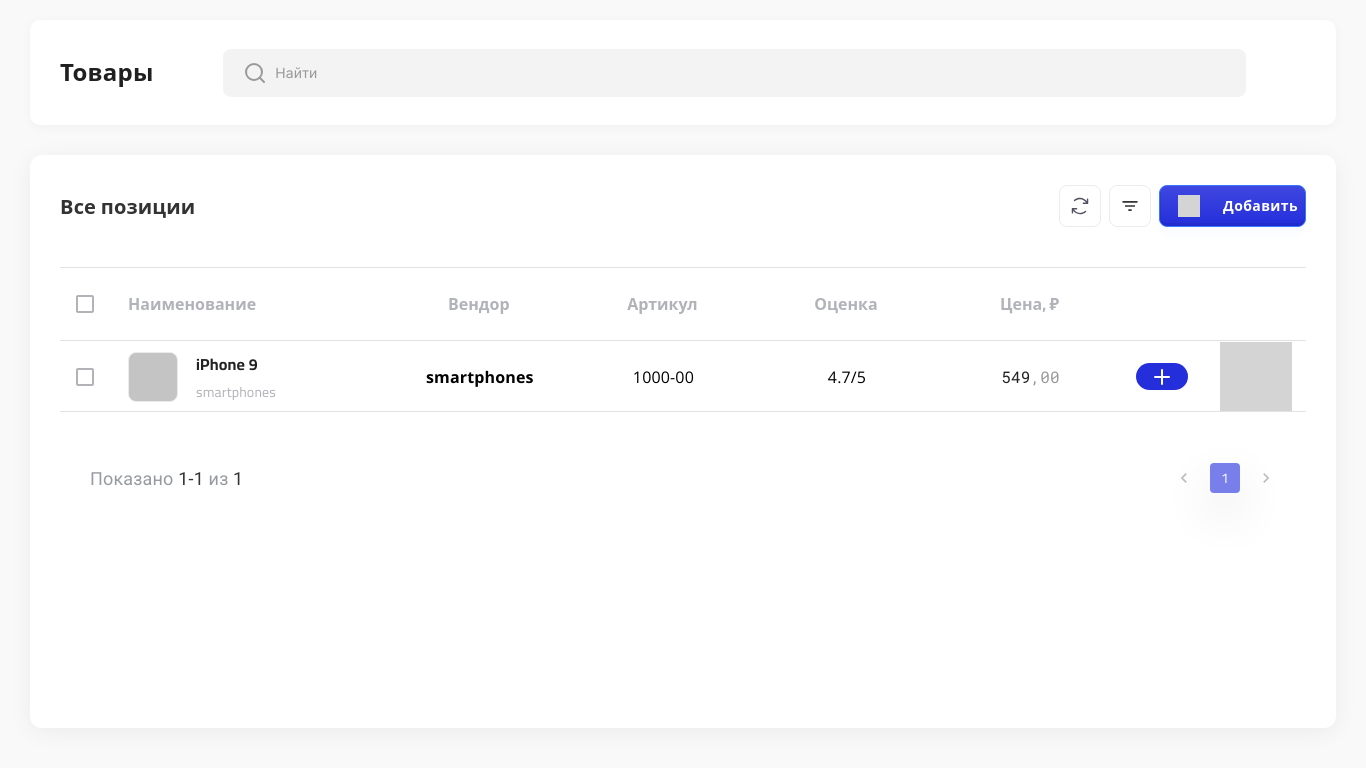
ProductsCreateProductForm › shows validation errors on empty submit
Expected: the text "Все позиции" is shown, top-left (60, 188), bottom-right (196, 224)
Click the button "Добавить".
click(1232, 206)  # box top-left (1159, 185), bottom-right (1306, 227)
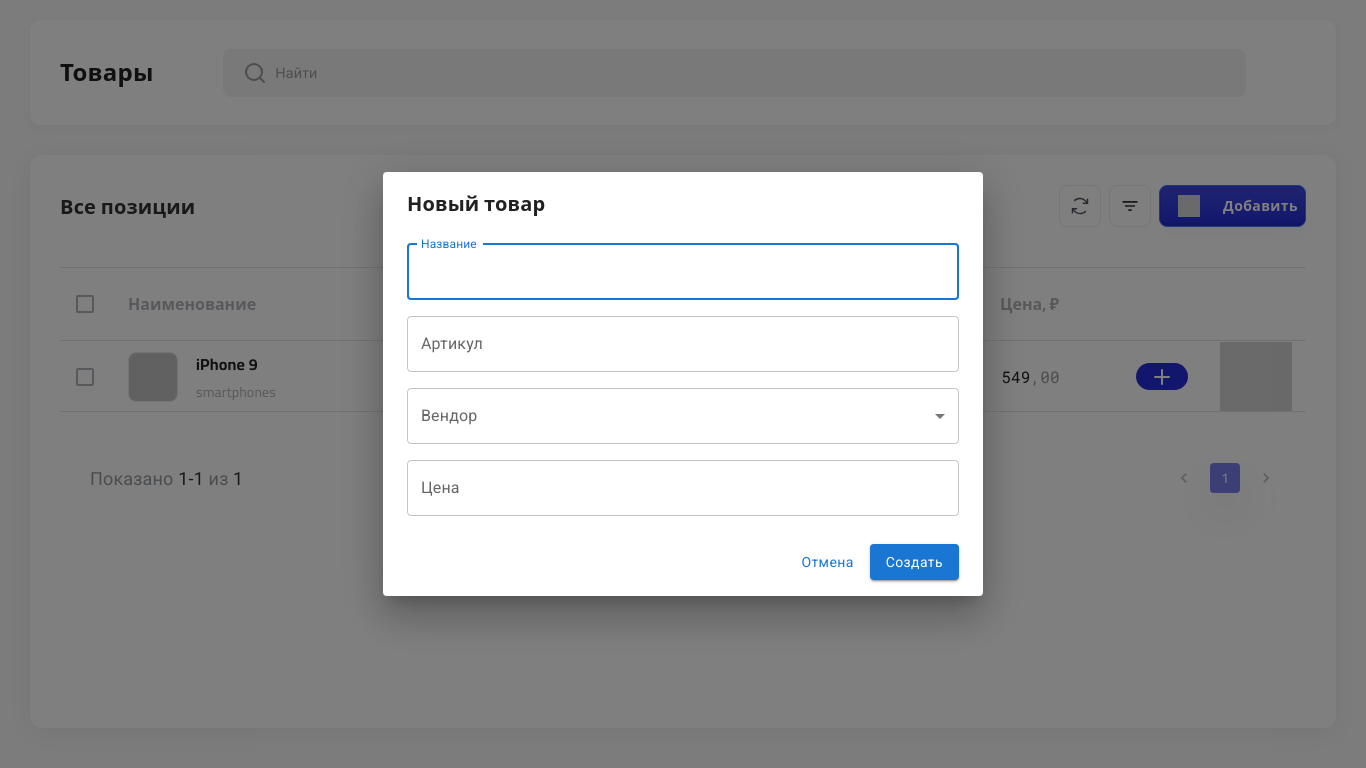
Result: the heading "Новый товар" is shown at top-left (407, 185), bottom-right (545, 222)
Click the button "Создать".
click(914, 562)  # box top-left (870, 544), bottom-right (959, 580)
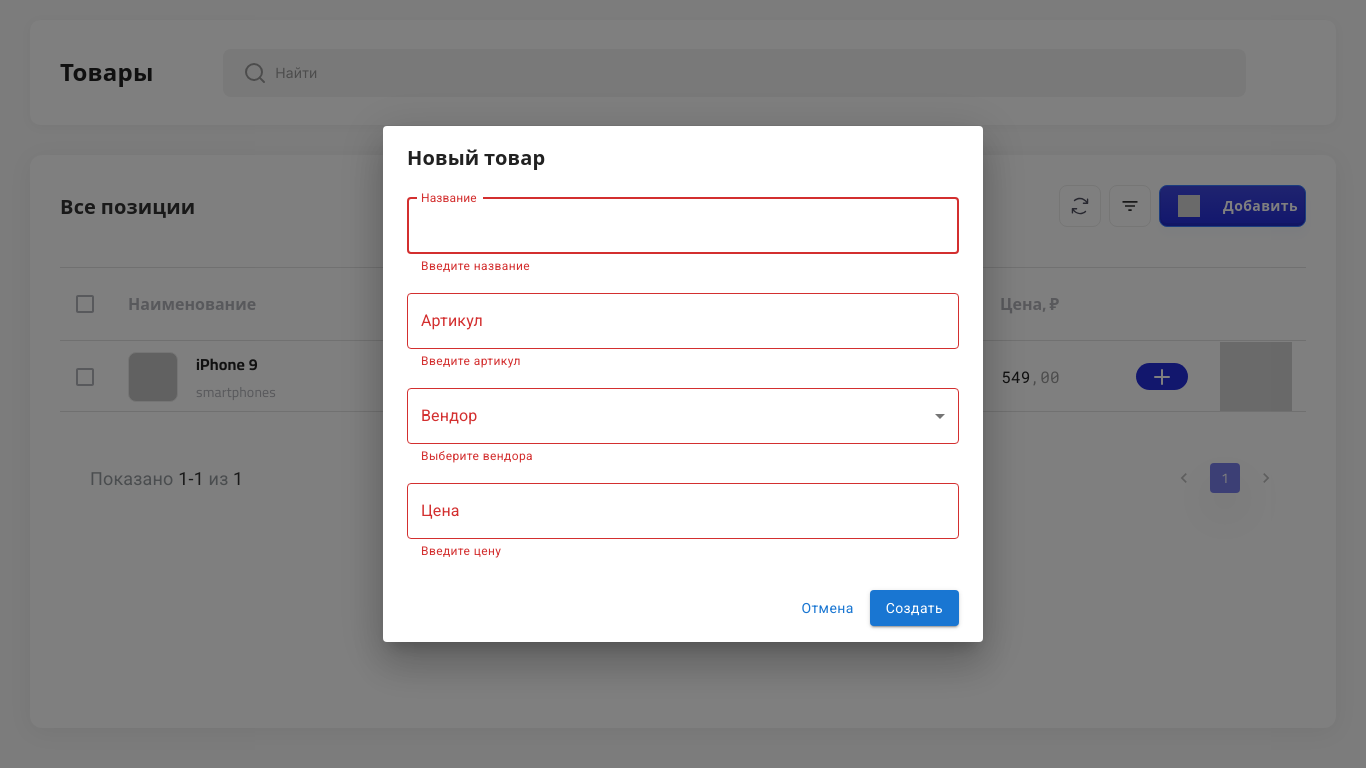
Result: the text "Введите название" is shown at top-left (421, 259), bottom-right (530, 273)
Result: the text "Введите артикул" is shown at top-left (421, 354), bottom-right (521, 368)
Result: the text "Выберите вендора" is shown at top-left (421, 449), bottom-right (533, 463)
